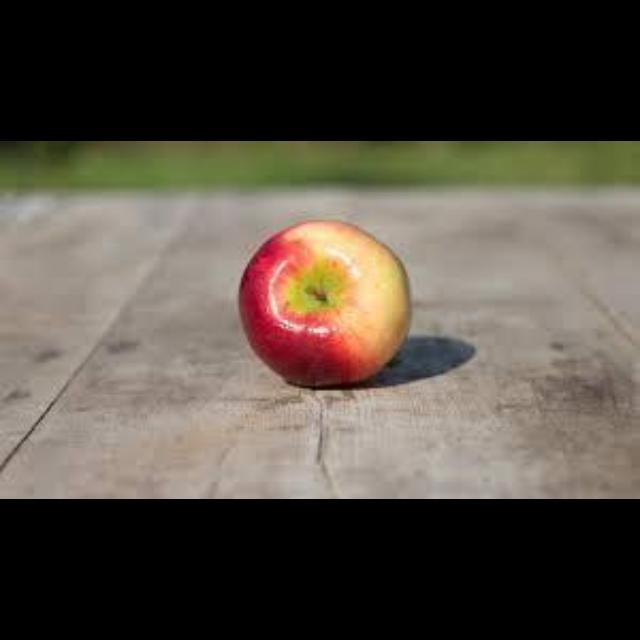apple: (239, 220, 410, 386)
